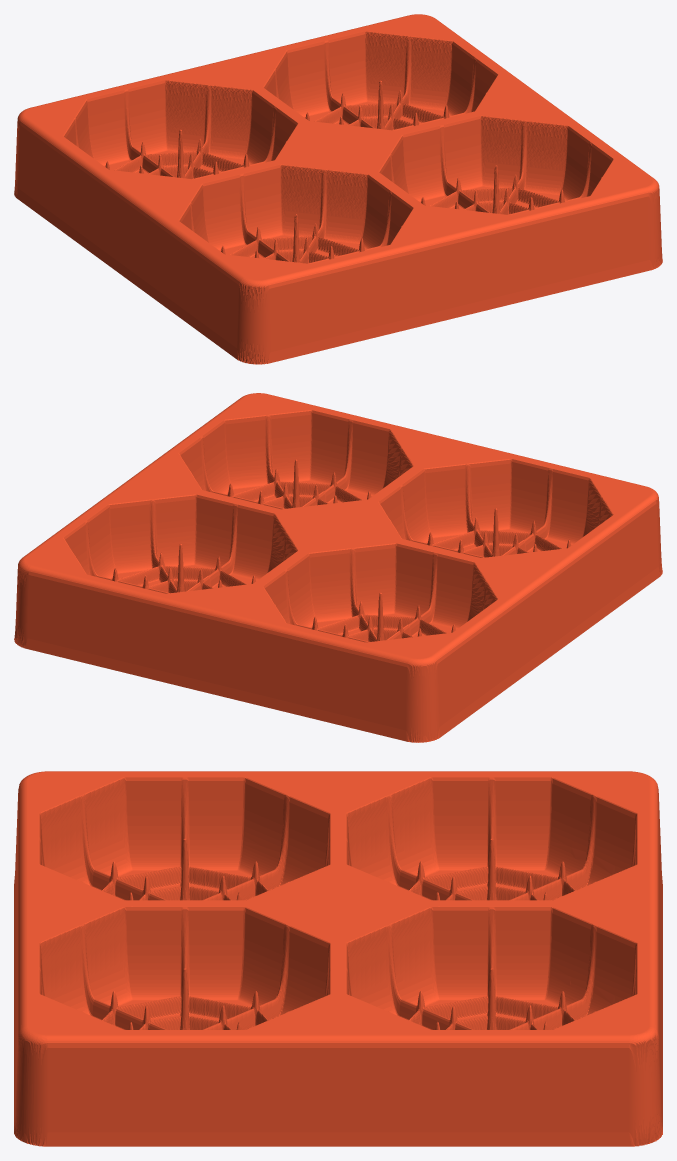
File: mold.glb
The picture shows the model from 3 angles, top to bottom: view 1: azimuth 30°, elevation 25°; view 2: azimuth 150°, elevation 25°; view 3: azimuth 270°, elevation 25°; orthographic projection. The views are drawn at different scales.
Parts seen in each view (by area): view 1: geometry_0; view 2: geometry_0; view 3: geometry_0.
Boxes of the visible parts, x1,y1,x2,y2 form: geometry_0: [14, 14, 662, 364]; geometry_0: [14, 393, 662, 742]; geometry_0: [14, 771, 662, 1146].
Bounding box in the file's own units: 0.1721 × 0.031 × 0.1721.
